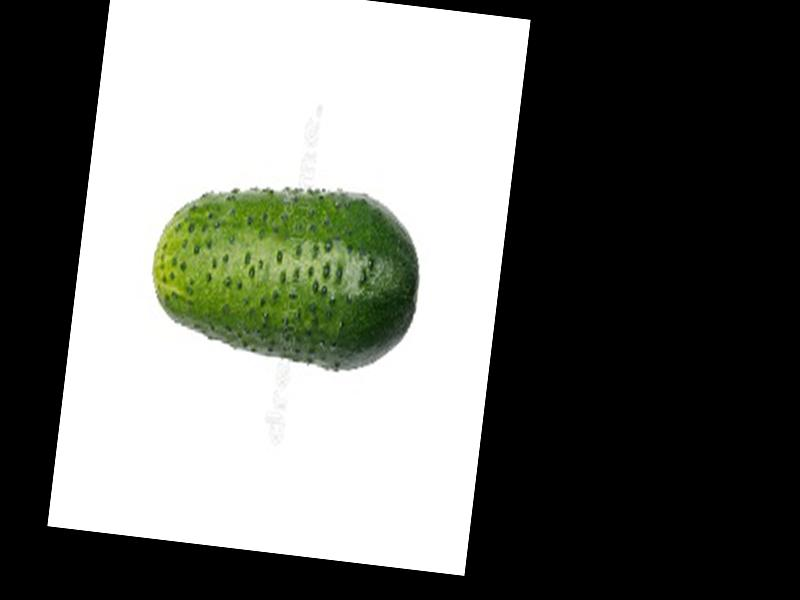Cucumber: (141, 166, 429, 379)
